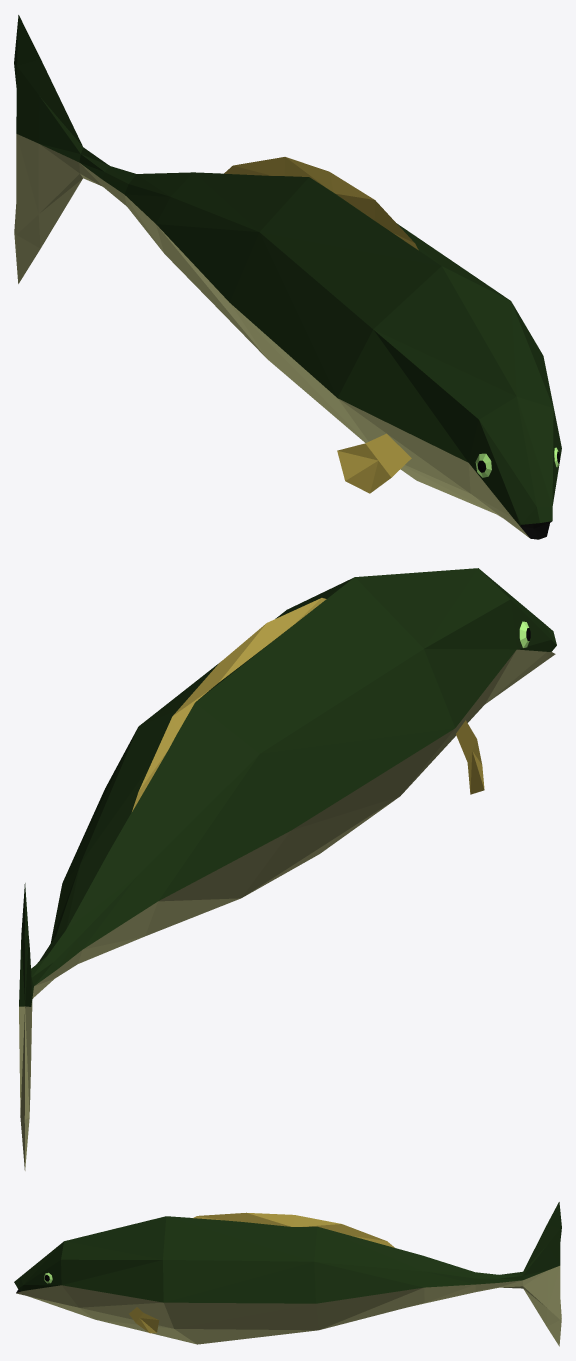
File: Minnnow_ioexperment_000009.obj
3 renders of one model, top to bottom at view 1: azimuth 30°, elevation 25°; view 2: azimuth 150°, elevation 25°; view 3: azimuth 270°, elevation 25°, orthographic. The views are drawn at different scales.
Bounding box in the file's own units: 0.7173 × 0.9146 × 3.
